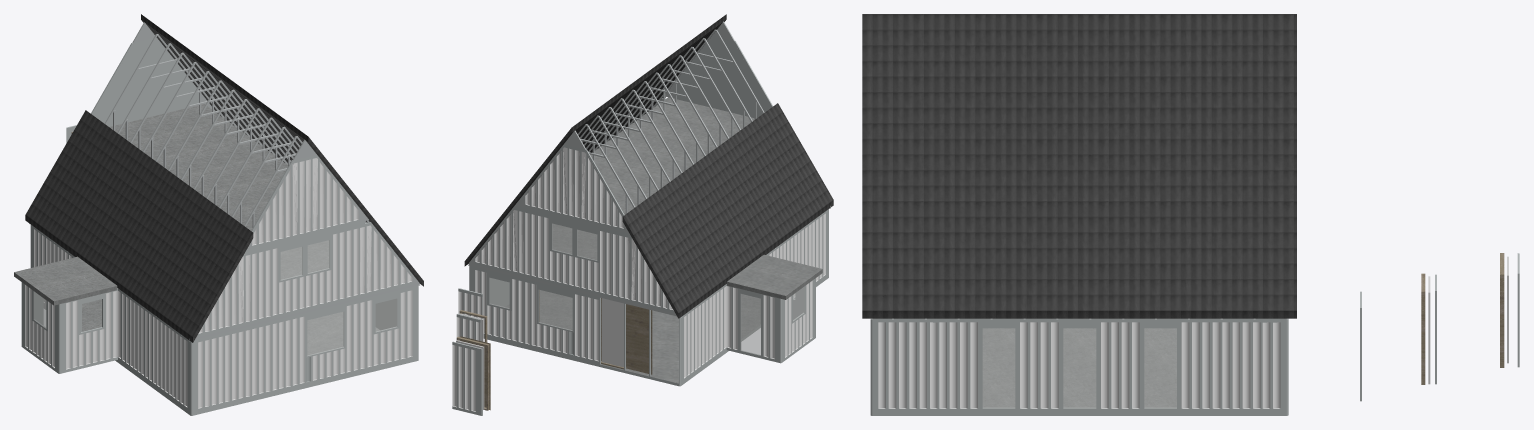
Rendered from MANSths.glb.
3 views of the same model, side by side, from view 1: azimuth 30°, elevation 25°; view 2: azimuth 150°, elevation 25°; view 3: azimuth 270°, elevation 25° (orthographic). The views are drawn at different scales.
Visible parts, largest first — view 1: VisualSceneNode1.171, VisualSceneNode1.198, VisualSceneNode1.170, VisualSceneNode1.172, VisualSceneNode1.124, VisualSceneNode1.090, VisualSceneNode1.167, VisualSceneNode1.095, VisualSceneNode1.102, VisualSceneNode1.109, VisualSceneNode1.115, VisualSceneNode1.094 (+41 smaller); view 2: VisualSceneNode1.171, VisualSceneNode1.198, VisualSceneNode1.124, VisualSceneNode1.170, VisualSceneNode1.172, VisualSceneNode1.193, VisualSceneNode1.012, VisualSceneNode1.157, VisualSceneNode1.024, VisualSceneNode1.054, VisualSceneNode1.060, VisualSceneNode1.016 (+42 smaller); view 3: VisualSceneNode1.170, VisualSceneNode1.124, VisualSceneNode1.150, VisualSceneNode1.132, VisualSceneNode1.131, VisualSceneNode1.143, VisualSceneNode1.146, VisualSceneNode1.138, VisualSceneNode1.135, VisualSceneNode1.140, VisualSceneNode1.129, VisualSceneNode1.149 (+5 smaller).
Boxes of the visible parts, x1=… form: VisualSceneNode1.171: x1=25, y1=110, x2=253, y2=342; VisualSceneNode1.198: x1=109, y1=104, x2=364, y2=252; VisualSceneNode1.170: x1=141, y1=14, x2=423, y2=286; VisualSceneNode1.172: x1=14, y1=256, x2=117, y2=305; VisualSceneNode1.124: x1=44, y1=299, x2=418, y2=415; VisualSceneNode1.090: x1=346, y1=297, x2=372, y2=375; VisualSceneNode1.167: x1=278, y1=158, x2=304, y2=241; VisualSceneNode1.095: x1=252, y1=320, x2=277, y2=398; VisualSceneNode1.102: x1=198, y1=333, x2=223, y2=411; VisualSceneNode1.109: x1=333, y1=225, x2=358, y2=303; VisualSceneNode1.115: x1=252, y1=245, x2=277, y2=323; VisualSceneNode1.094: x1=279, y1=313, x2=304, y2=391; VisualSceneNode1.171: x1=622, y1=103, x2=833, y2=318; VisualSceneNode1.198: x1=519, y1=97, x2=754, y2=235; VisualSceneNode1.124: x1=483, y1=275, x2=828, y2=386; VisualSceneNode1.170: x1=464, y1=14, x2=726, y2=266; VisualSceneNode1.172: x1=727, y1=254, x2=822, y2=299; VisualSceneNode1.193: x1=601, y1=298, x2=652, y2=374; VisualSceneNode1.012: x1=512, y1=276, x2=536, y2=348; VisualSceneNode1.157: x1=575, y1=147, x2=599, y2=225; VisualSceneNode1.024: x1=452, y1=341, x2=476, y2=414; VisualSceneNode1.054: x1=525, y1=210, x2=548, y2=282; VisualSceneNode1.060: x1=600, y1=228, x2=623, y2=300; VisualSceneNode1.016: x1=575, y1=291, x2=598, y2=363; VisualSceneNode1.170: x1=862, y1=14, x2=1296, y2=318; VisualSceneNode1.124: x1=870, y1=328, x2=1288, y2=415; VisualSceneNode1.150: x1=878, y1=318, x2=937, y2=412; VisualSceneNode1.132: x1=1181, y1=318, x2=1220, y2=412; VisualSceneNode1.131: x1=1101, y1=318, x2=1139, y2=412; VisualSceneNode1.143: x1=939, y1=318, x2=977, y2=412; VisualSceneNode1.146: x1=1222, y1=318, x2=1260, y2=412; VisualSceneNode1.138: x1=1020, y1=318, x2=1058, y2=412; VisualSceneNode1.135: x1=1063, y1=328, x2=1096, y2=408; VisualSceneNode1.140: x1=982, y1=328, x2=1015, y2=408; VisualSceneNode1.129: x1=1144, y1=328, x2=1176, y2=408; VisualSceneNode1.149: x1=1262, y1=318, x2=1280, y2=412.
Bounding box in the file's own units: 10.74 × 8.85 × 15.99.
Materials: 8 (3 with a texture image).
